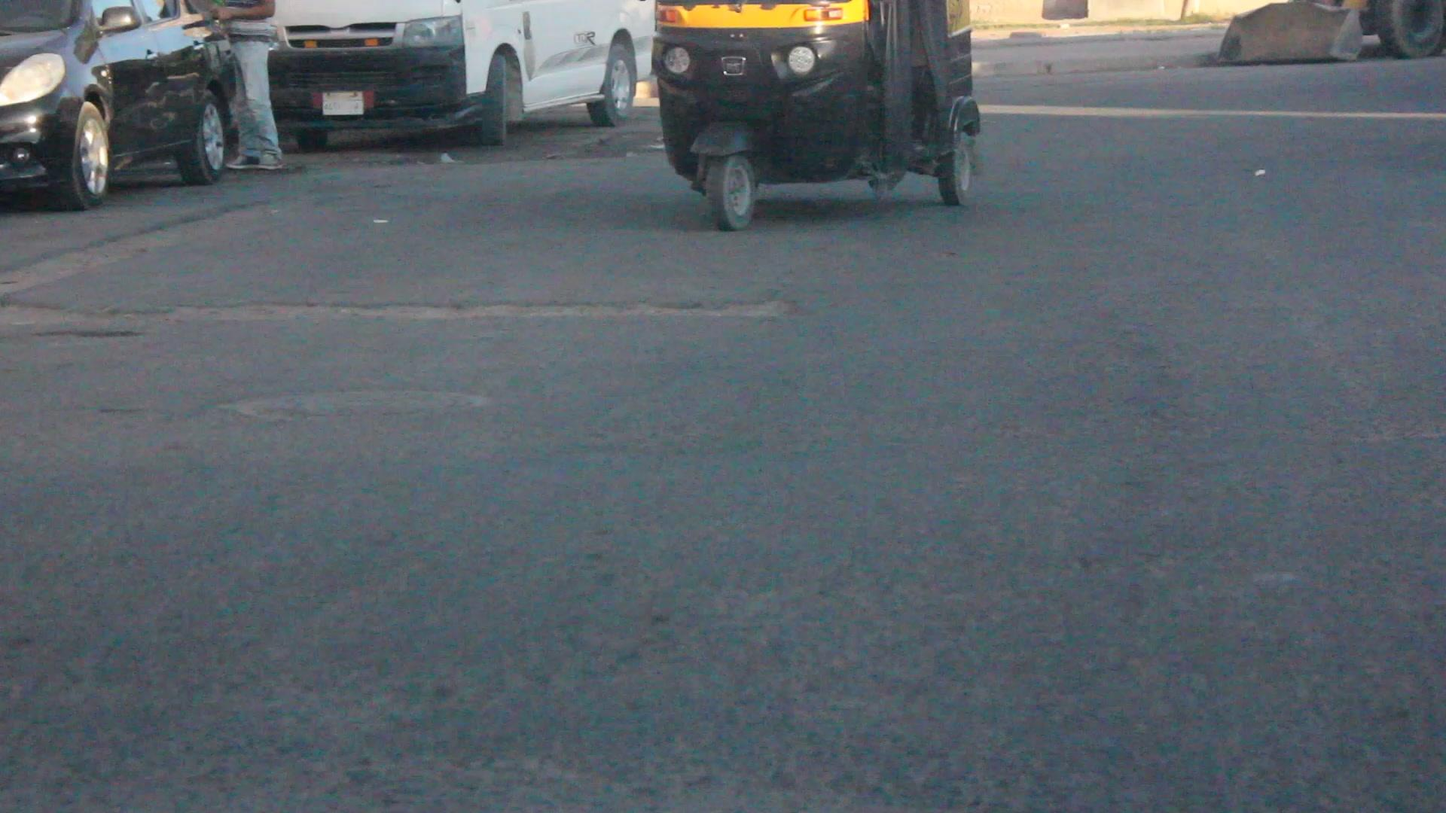Pothole: (24, 284, 808, 331)
